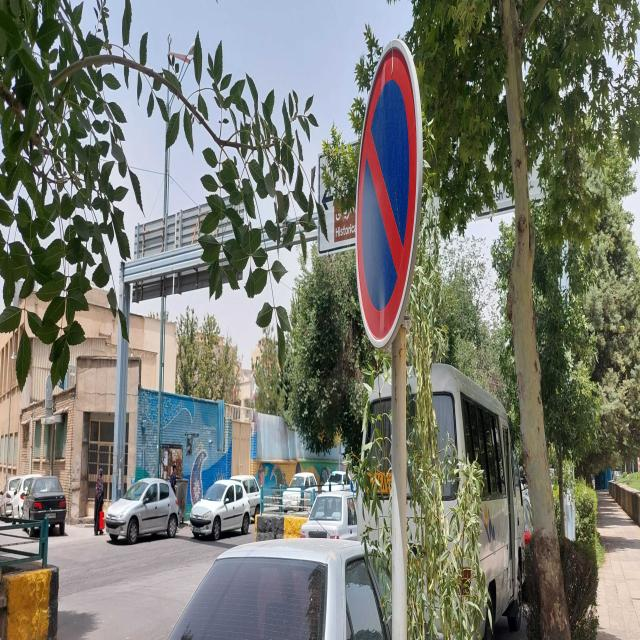forb_stopping: (353, 40, 423, 352)
